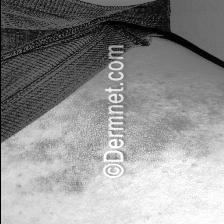Non-Cancerous Skin Condition: (15, 93, 212, 197)
